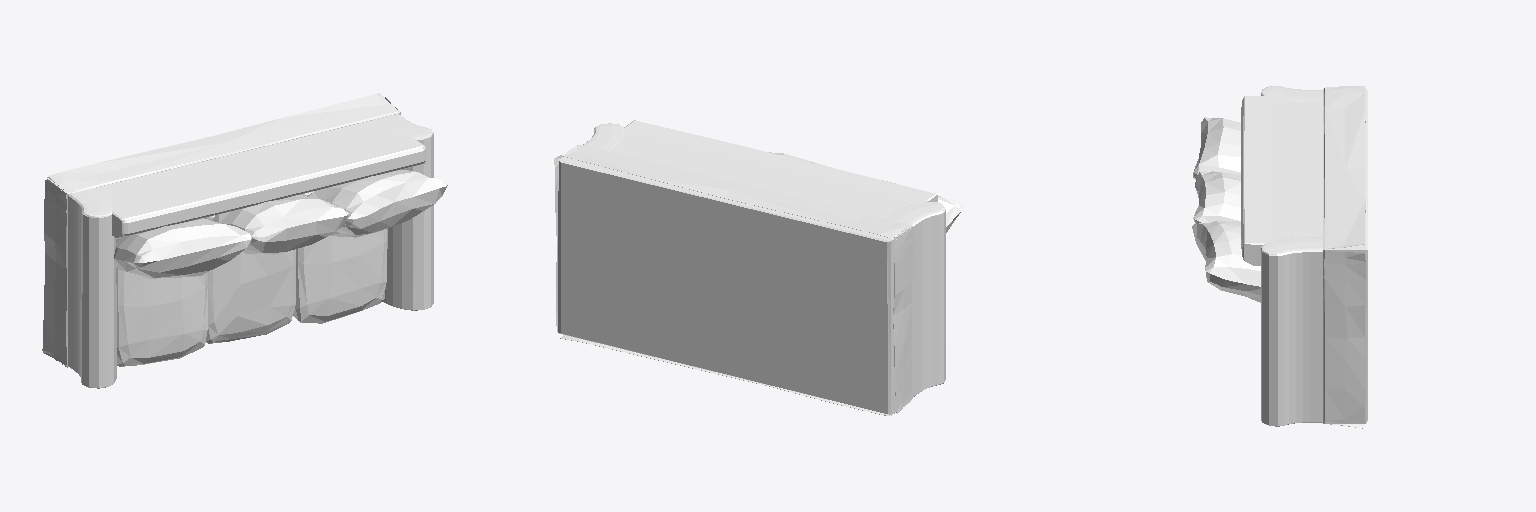
Rendered from HSM0012.obj.
The picture shows the model from 3 angles: view 1: azimuth 30°, elevation 25°; view 2: azimuth 150°, elevation 25°; view 3: azimuth 270°, elevation 25°; orthographic projection.
Visible parts, largest first — view 1: CasualSofa_834236_Stone_Gray__CasualSofa_834236_Stone_Gray__lowp; view 2: CasualSofa_834236_Stone_Gray__CasualSofa_834236_Stone_Gray__lowp; view 3: CasualSofa_834236_Stone_Gray__CasualSofa_834236_Stone_Gray__lowp.
Part boxes in pixels (x1,y1,x2,y2): CasualSofa_834236_Stone_Gray__CasualSofa_834236_Stone_Gray__lowp: (42,93,447,388); CasualSofa_834236_Stone_Gray__CasualSofa_834236_Stone_Gray__lowp: (554,120,962,415); CasualSofa_834236_Stone_Gray__CasualSofa_834236_Stone_Gray__lowp: (1192,86,1367,428).
Size of the model in its own units: 211 by 106 by 91.76.